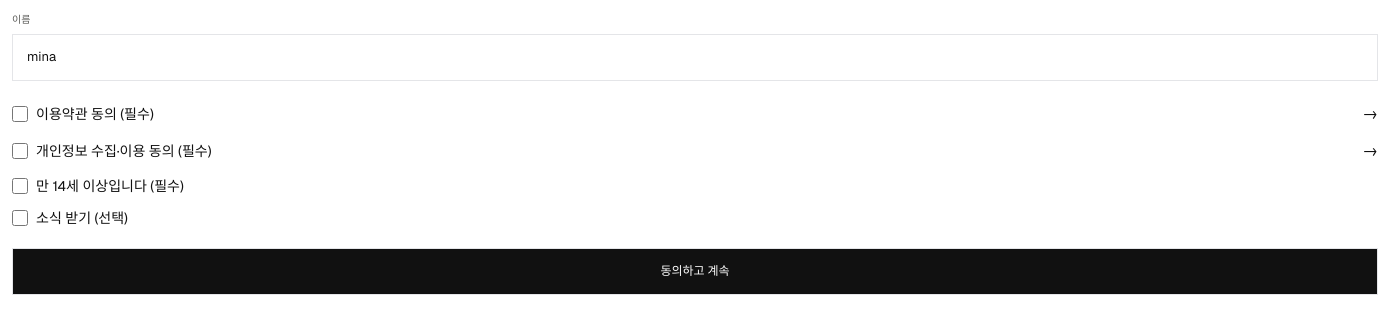
Scenario: ConsentForm › 가입 표 만료 → 만료 문구 + 로그인 링크
Step 1. Click the checkbox labelled "이용약관 동의 (필수)" → click(20, 114), box [12, 106, 28, 122]
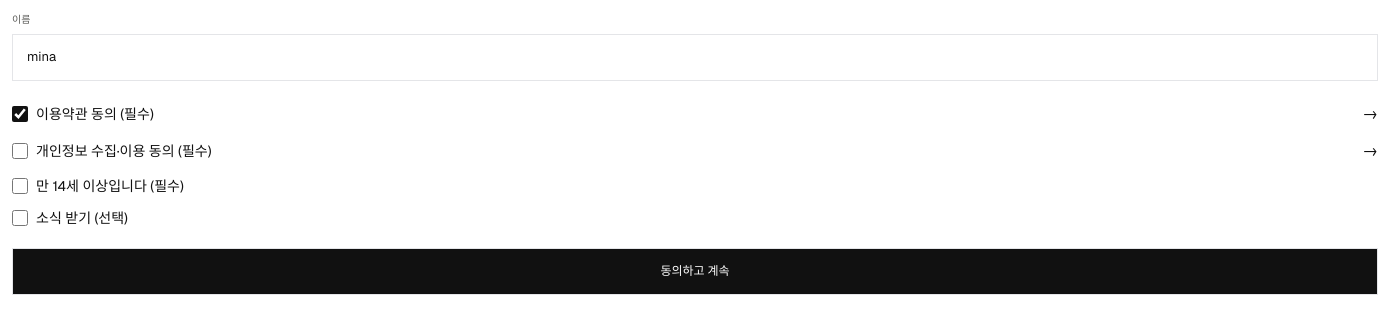
Step 2. Click the checkbox labelled "개인정보 수집·이용 동의 (필수)" → click(20, 151), box [12, 143, 28, 159]
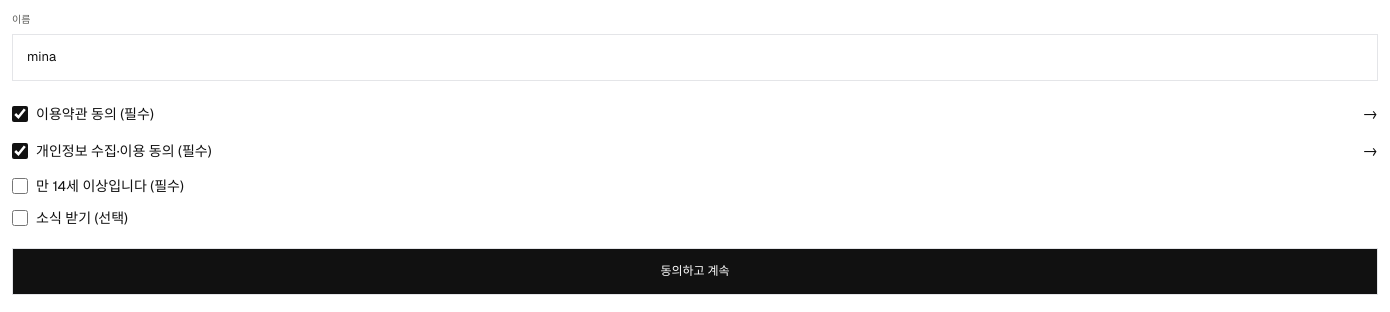
Step 3. Click the checkbox labelled "만 14세 이상입니다 (필수)" → click(20, 186), box [12, 178, 28, 194]
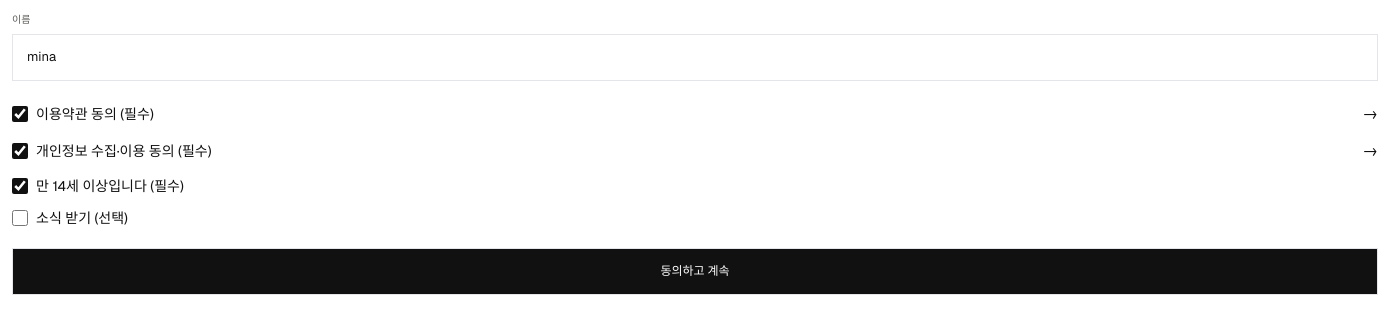
Step 4. Submit the form "동의하고 계속"
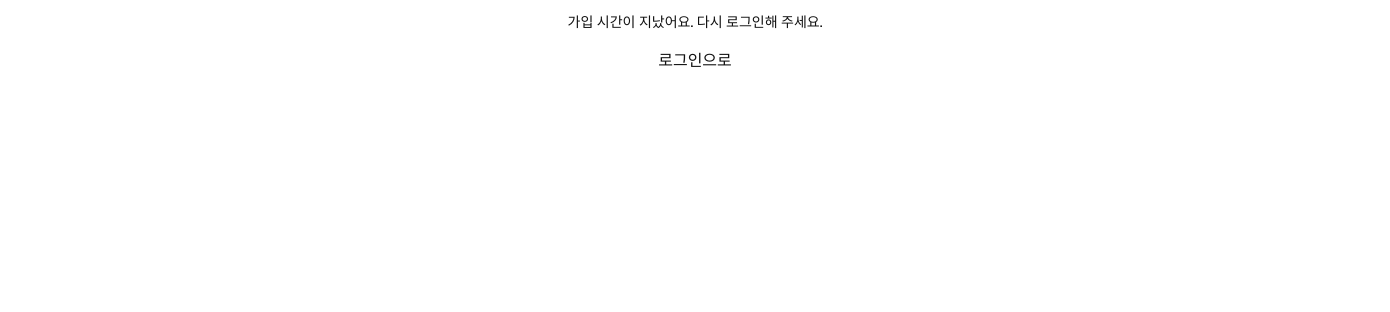
Result: the text "가입 시간이 지났어요. 다시 로그인해 주세요." is shown at [568, 12, 822, 32]
